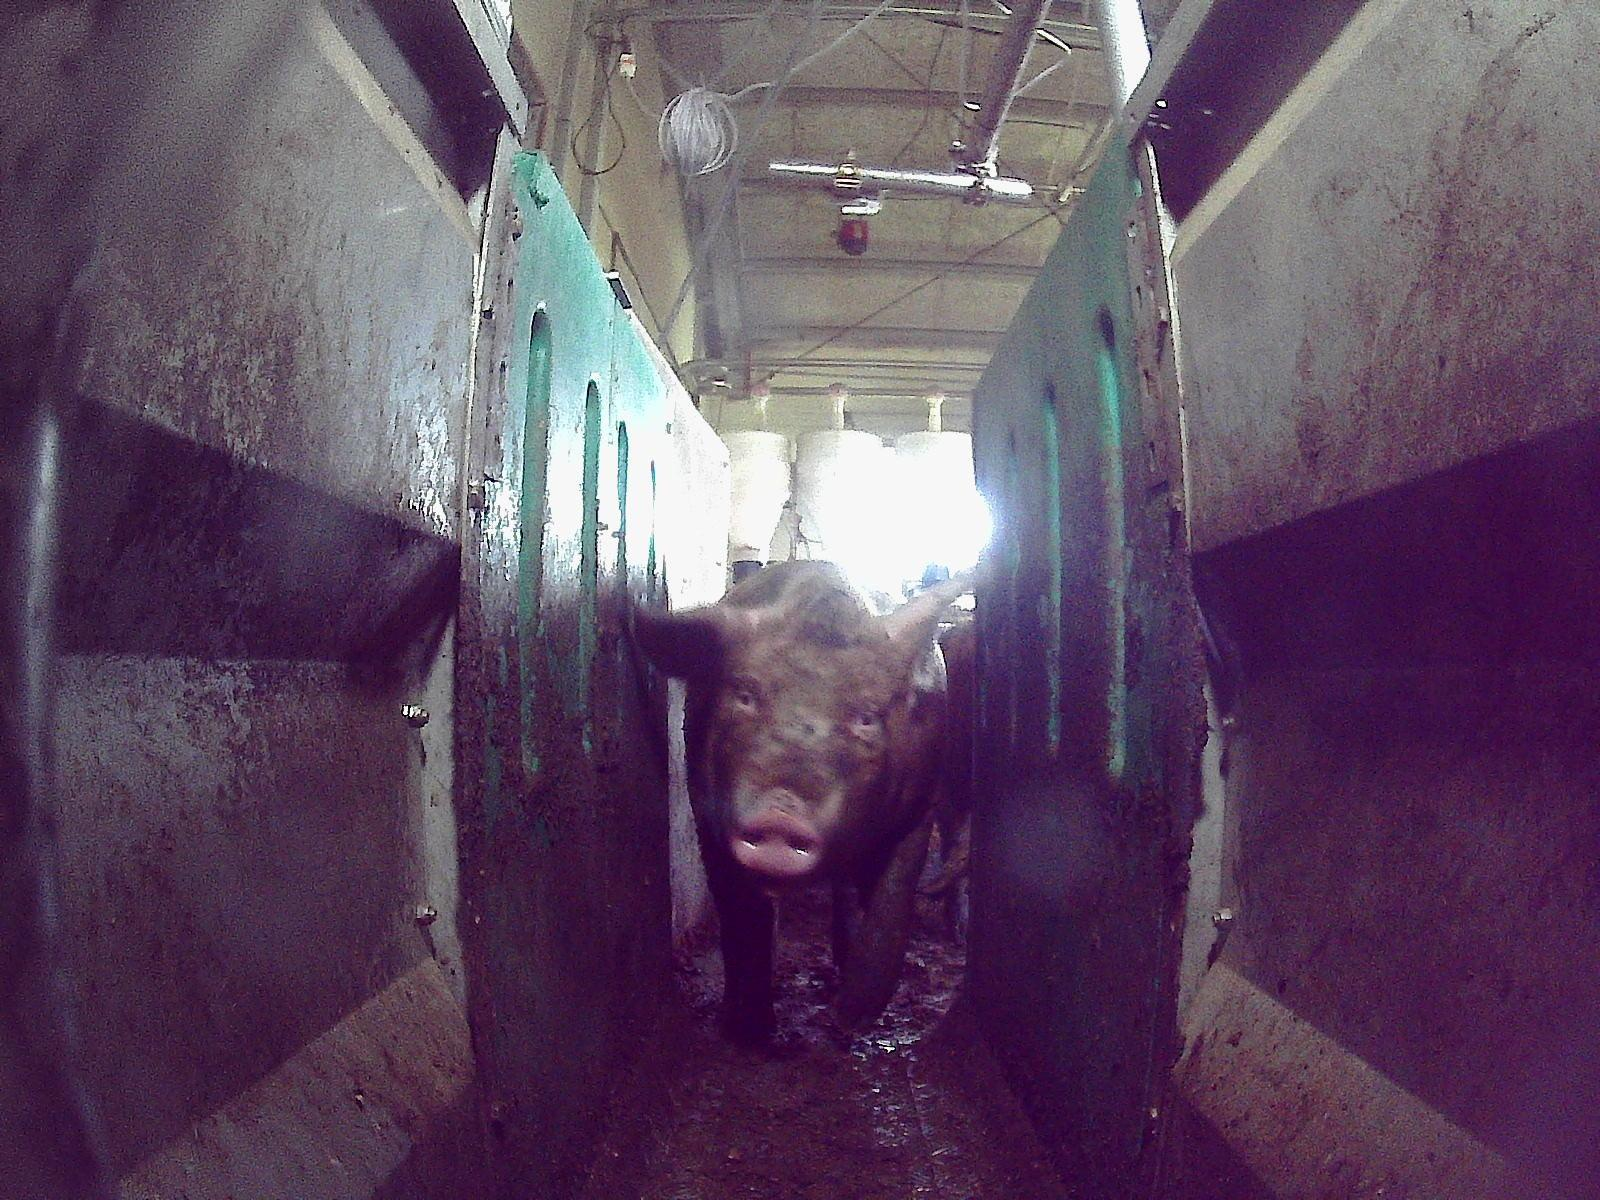Face: (706, 627, 902, 875)
